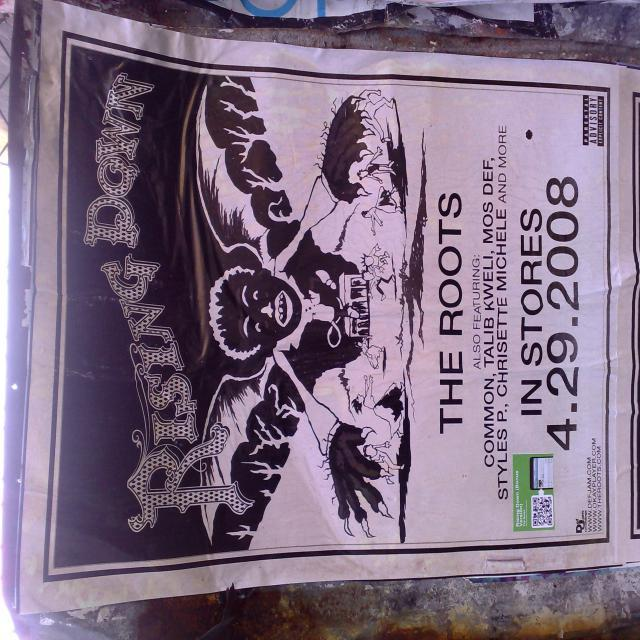qrcode: (534, 498, 553, 527)
